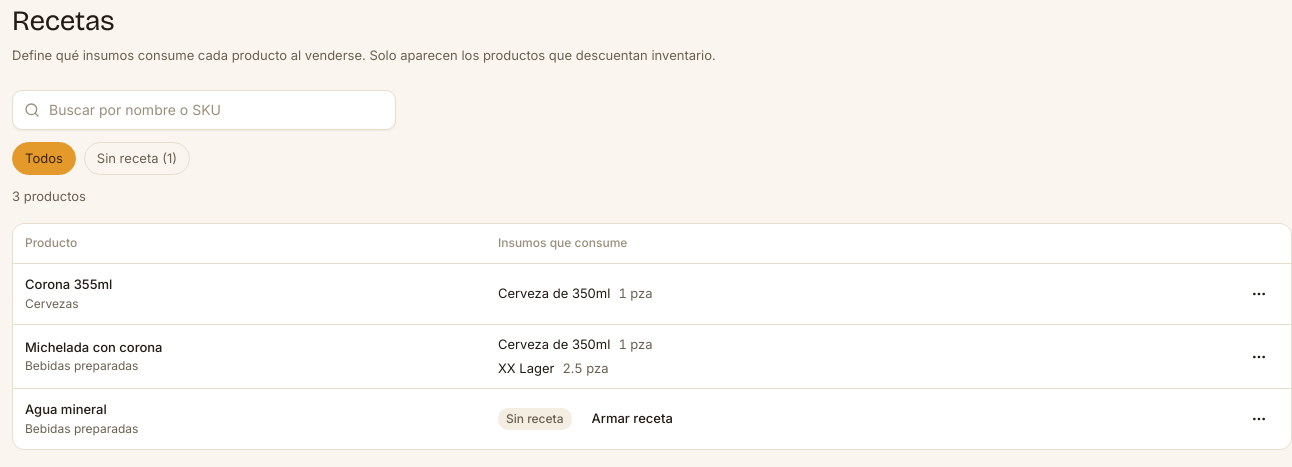
Test case: RecetasPage · buscar y lo que falta › el filtro de lo que falta viaja al backend y deja solo esos productos
The image size is (1292, 467).
Click the button "Sin receta (1)" at (137, 158), box [84, 142, 190, 175]
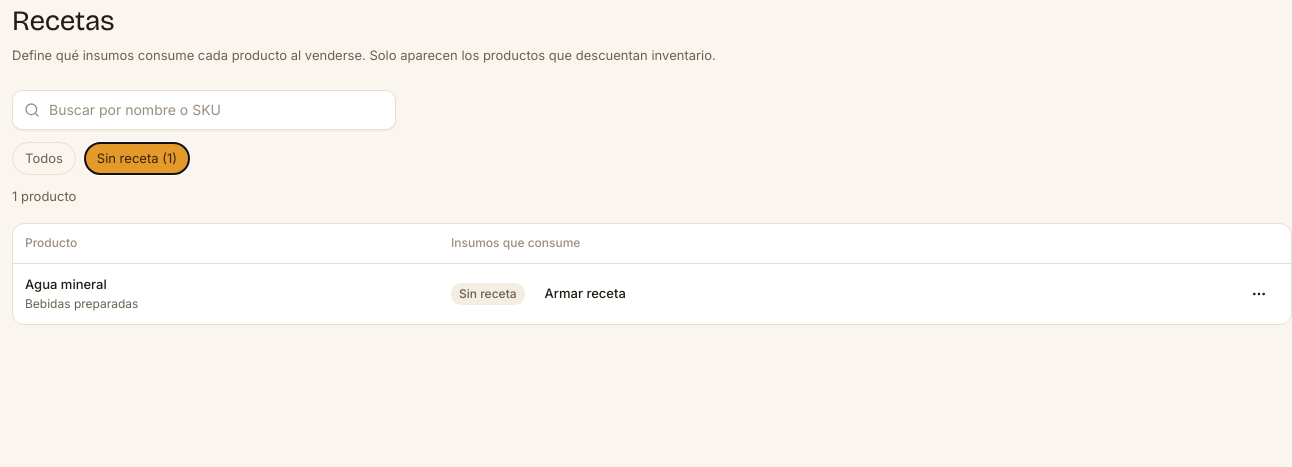
Expected: the row "Agua mineral Bebidas preparadas Sin receta Armar receta" is shown, [13, 264, 1291, 324]
Expected: the text "Michelada" is gone
